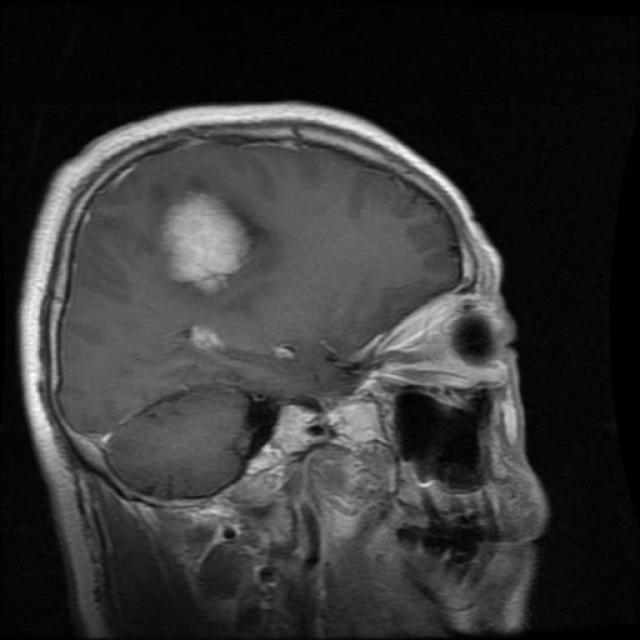meningioma: (161, 188, 248, 294)
